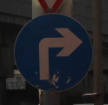right_turn: (14, 13, 92, 92)
